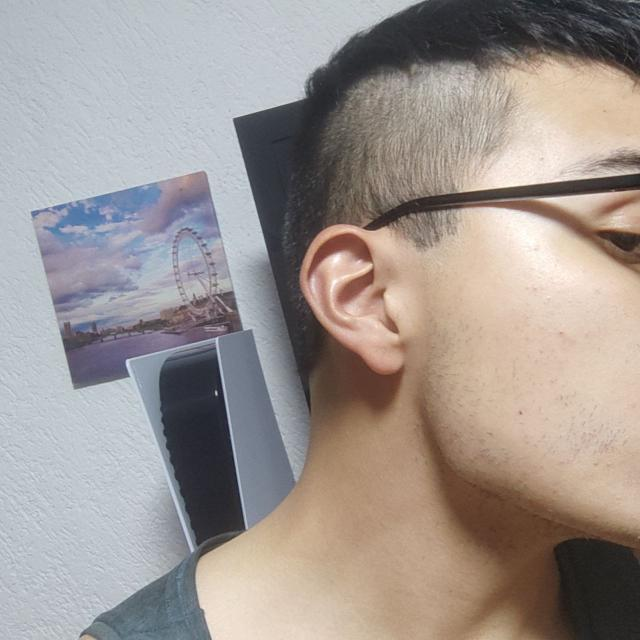ear: (300, 225, 404, 375)
